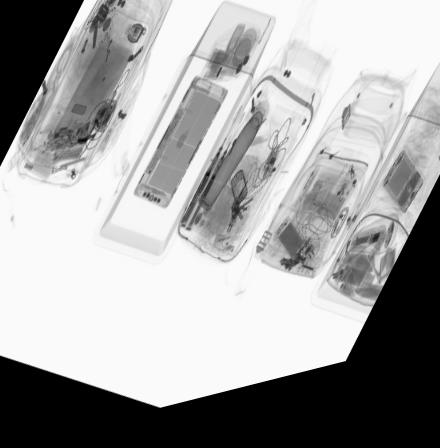Powerbank: (271, 227, 308, 278)
